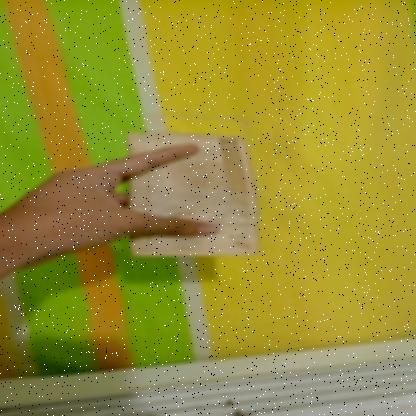five-back-vef: (125, 131, 260, 256)
